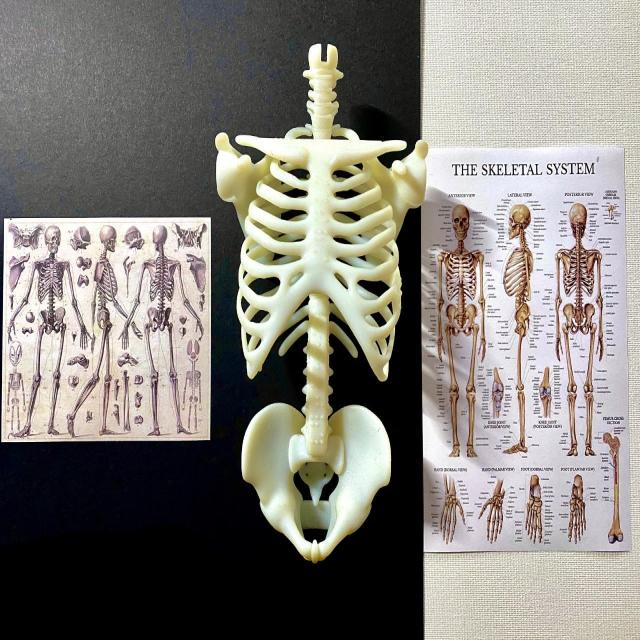Without deffect: (218, 32, 424, 582)
